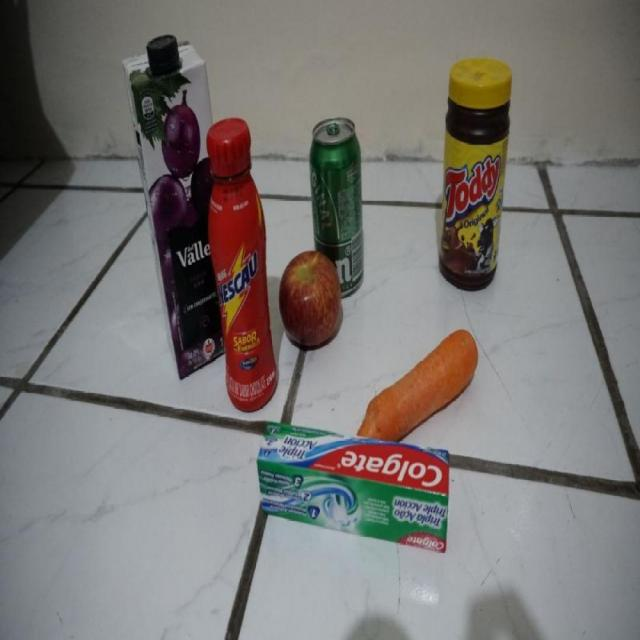Apple: (281, 250, 342, 350)
BeerCan: (308, 116, 366, 296)
Carrot: (355, 330, 479, 439)
ChocolateMilk: (204, 114, 279, 413)
ChocolatePowder: (440, 57, 513, 288)
Toothpaste: (258, 422, 450, 553)
